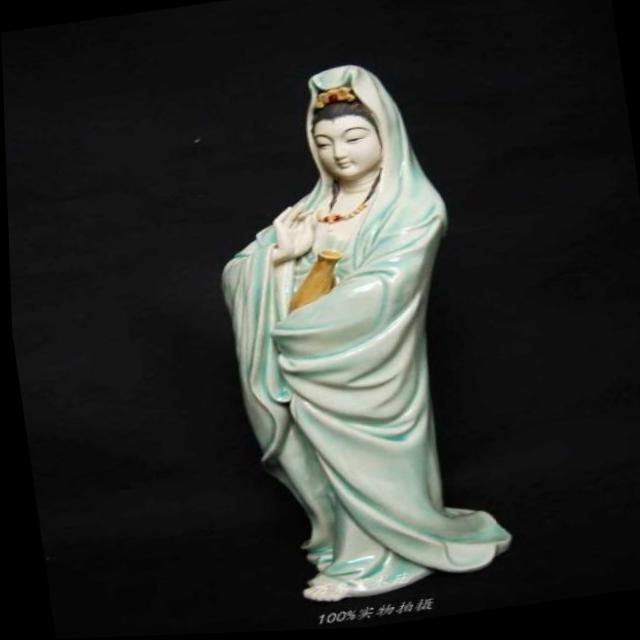Guan Yin: (186, 50, 487, 513)
